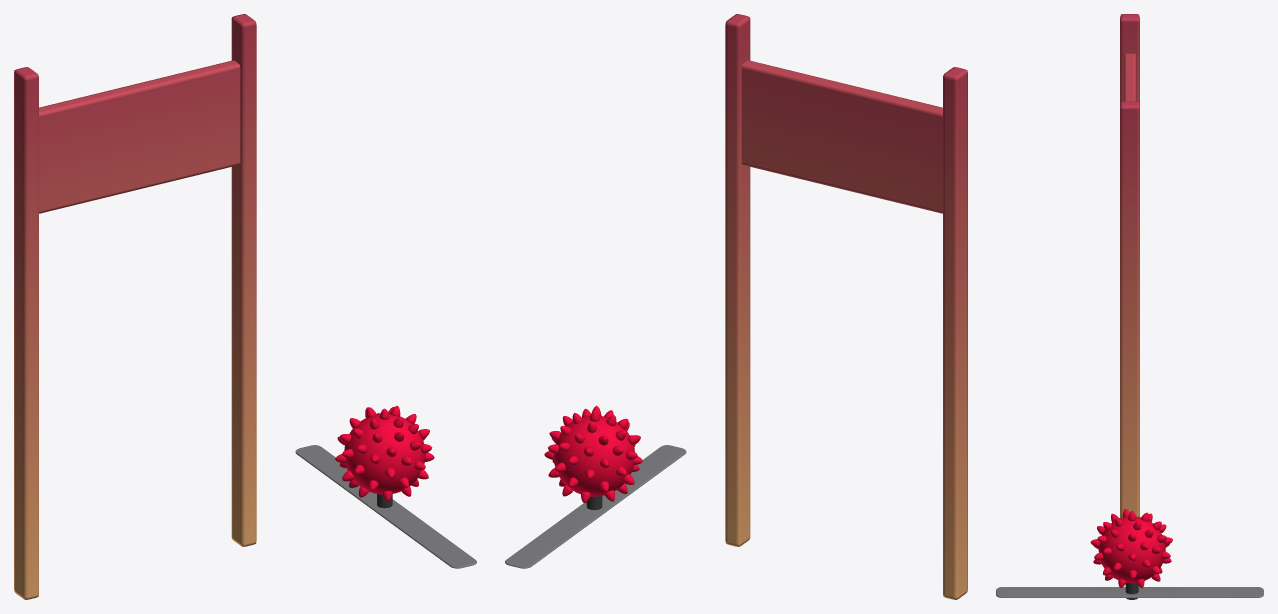
Rendered from Door_maze.fbx.
3 renders of one model, left to right at view 1: azimuth 30°, elevation 25°; view 2: azimuth 150°, elevation 25°; view 3: azimuth 270°, elevation 25°, orthographic. The views are drawn at different scales.
Visible parts, largest first — view 1: Door, Plane, Base, Rail; view 2: Door, Plane, Base, Rail; view 3: Door, Base, Rail, Plane.
Boxes of the visible parts, box(x1,y1,x2,y2) form: Door: box(14, 14, 256, 599); Plane: box(39, 60, 240, 213); Base: box(335, 405, 434, 508); Rail: box(295, 445, 476, 568); Door: box(725, 14, 967, 599); Plane: box(741, 60, 942, 213); Base: box(544, 405, 642, 510); Rail: box(505, 445, 686, 568); Door: box(1120, 14, 1139, 518); Base: box(1090, 509, 1172, 599); Rail: box(996, 587, 1263, 597); Plane: box(1124, 53, 1135, 101).
Bounding box in the file's own units: 4.9 × 6.04 × 3.36.
